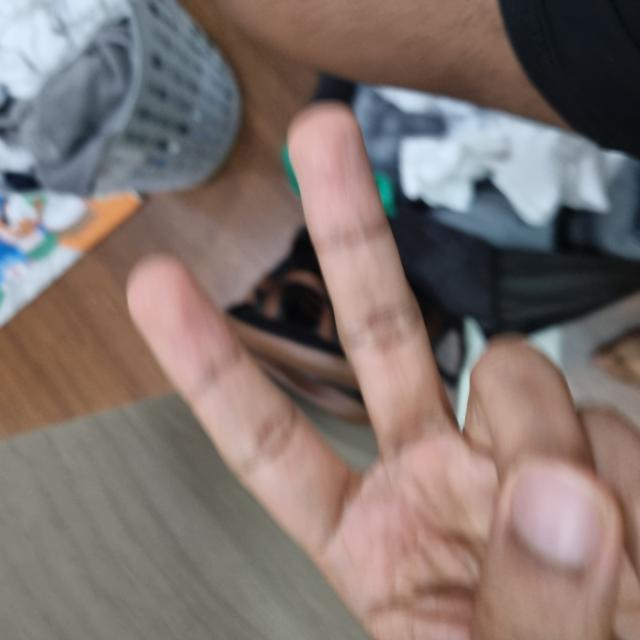Scissors: (0, 131, 533, 638)
